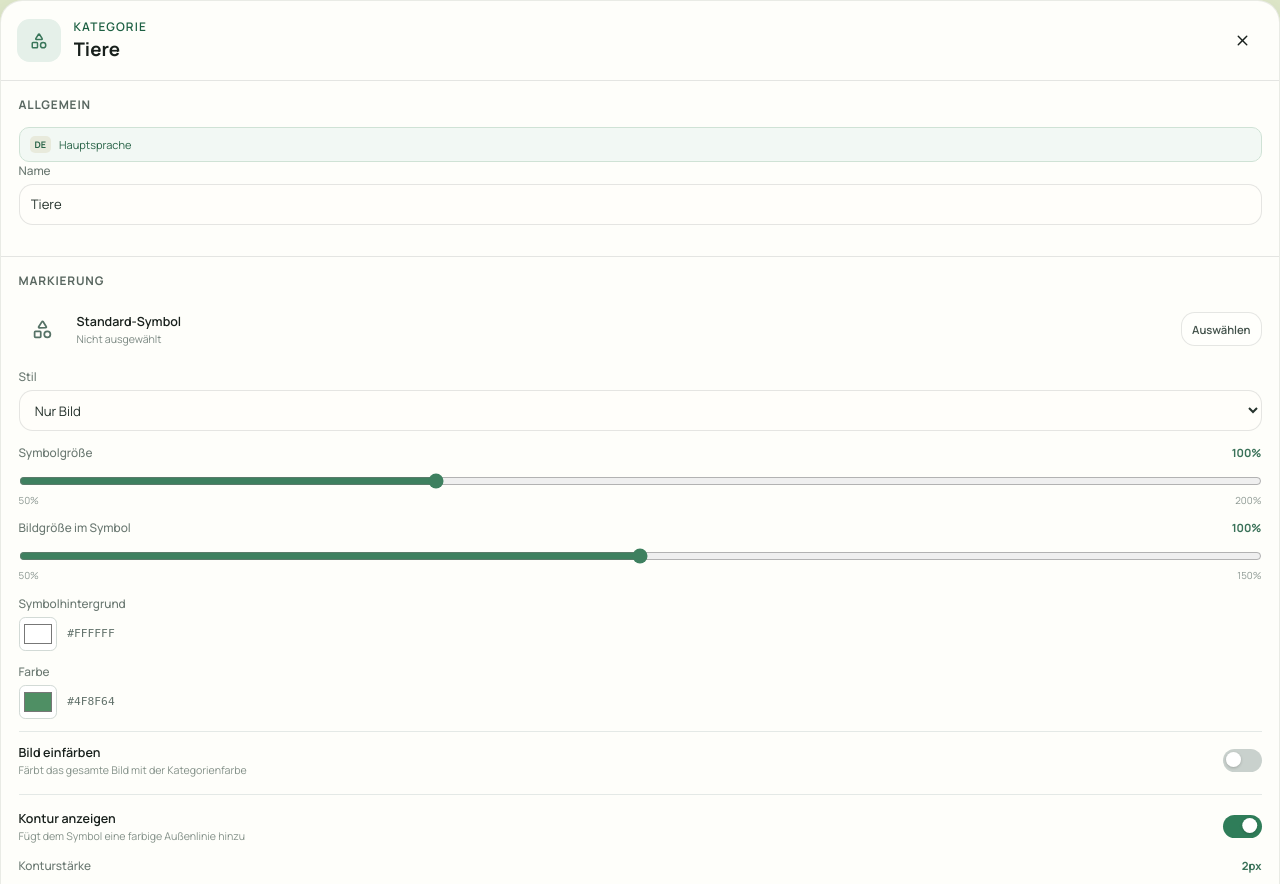
Test: CategoryInspector › commits the selected category icon size
Set the slider labelled "Symbolgröße" to "1.55": (885, 481) [18,471,1262,491]
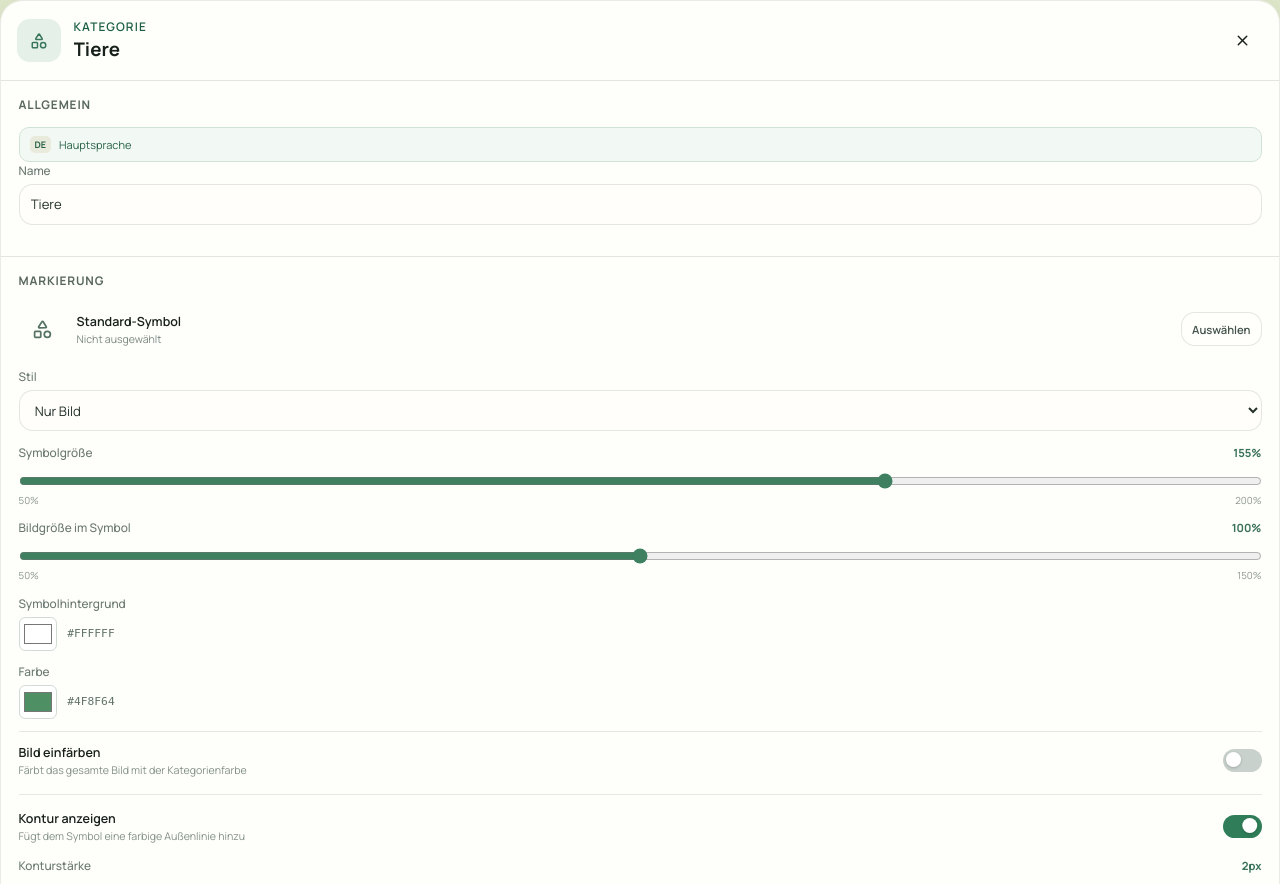
Expected: the text "155%" is shown, [1233,445,1262,460]
